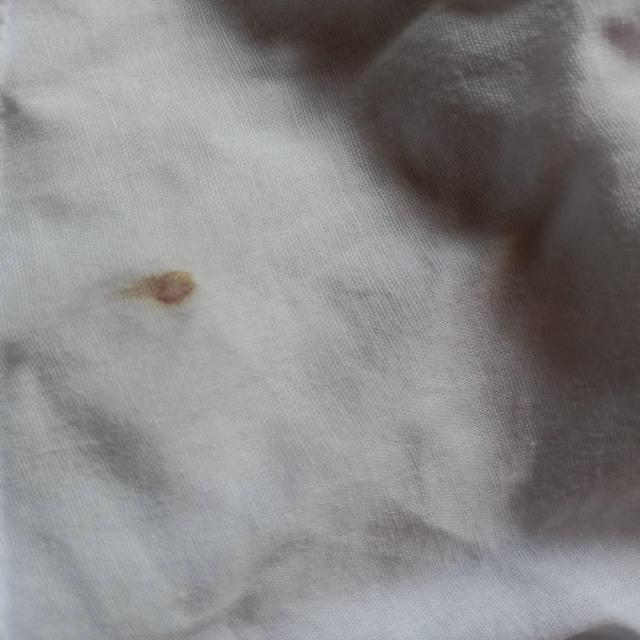stain: (85, 254, 220, 318)
